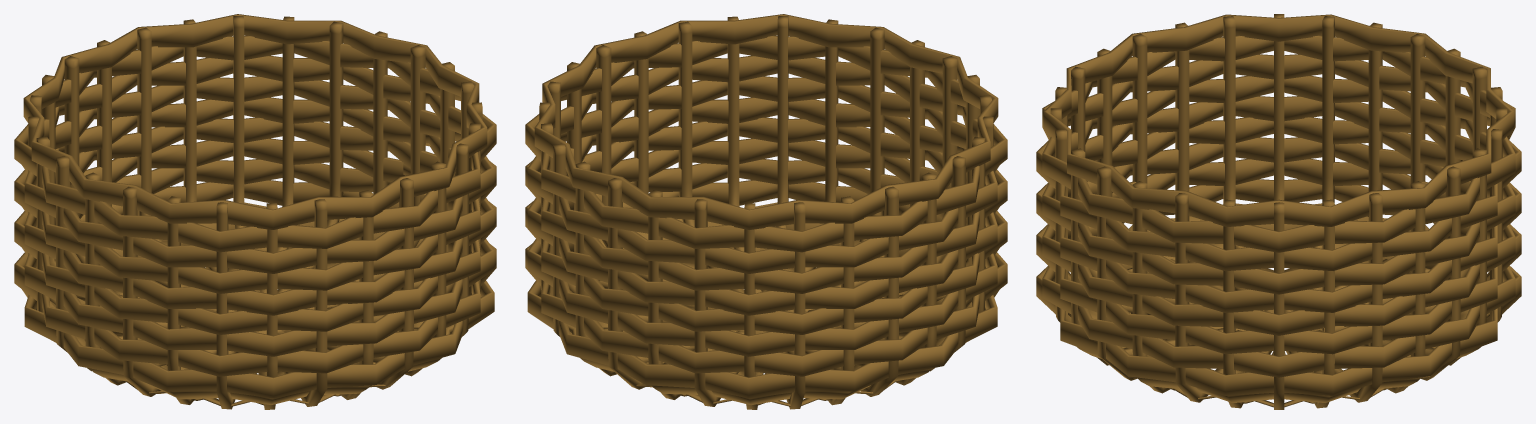
File: canasta.fbx
The picture shows the model from 3 angles, left to right: view 1: azimuth 30°, elevation 25°; view 2: azimuth 150°, elevation 25°; view 3: azimuth 270°, elevation 25°; orthographic projection.
Parts seen in each view (by area): view 1: canasta; view 2: canasta; view 3: canasta.
Part boxes in pixels (left/top/right/bottom): canasta: left=14, top=14, right=496, bottom=409; canasta: left=525, top=14, right=1007, bottom=409; canasta: left=1036, top=14, right=1521, bottom=409.
Size of the model in its own units: 213 by 110 by 213.
